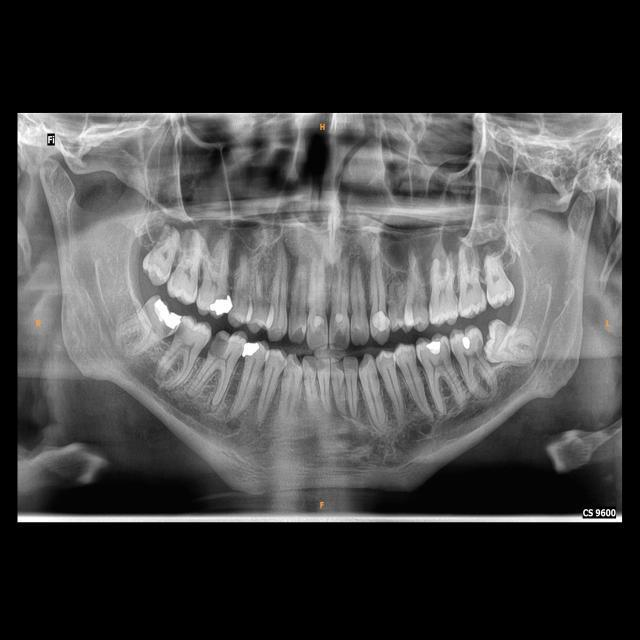dentin-curugu: (212, 328, 228, 362), (335, 329, 347, 349), (292, 324, 304, 341)
dolgu: (150, 294, 183, 333), (459, 329, 481, 361), (213, 292, 236, 320), (426, 336, 448, 360), (240, 337, 264, 357)
